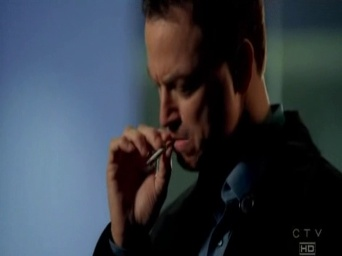smoke: (145, 140, 172, 164)
